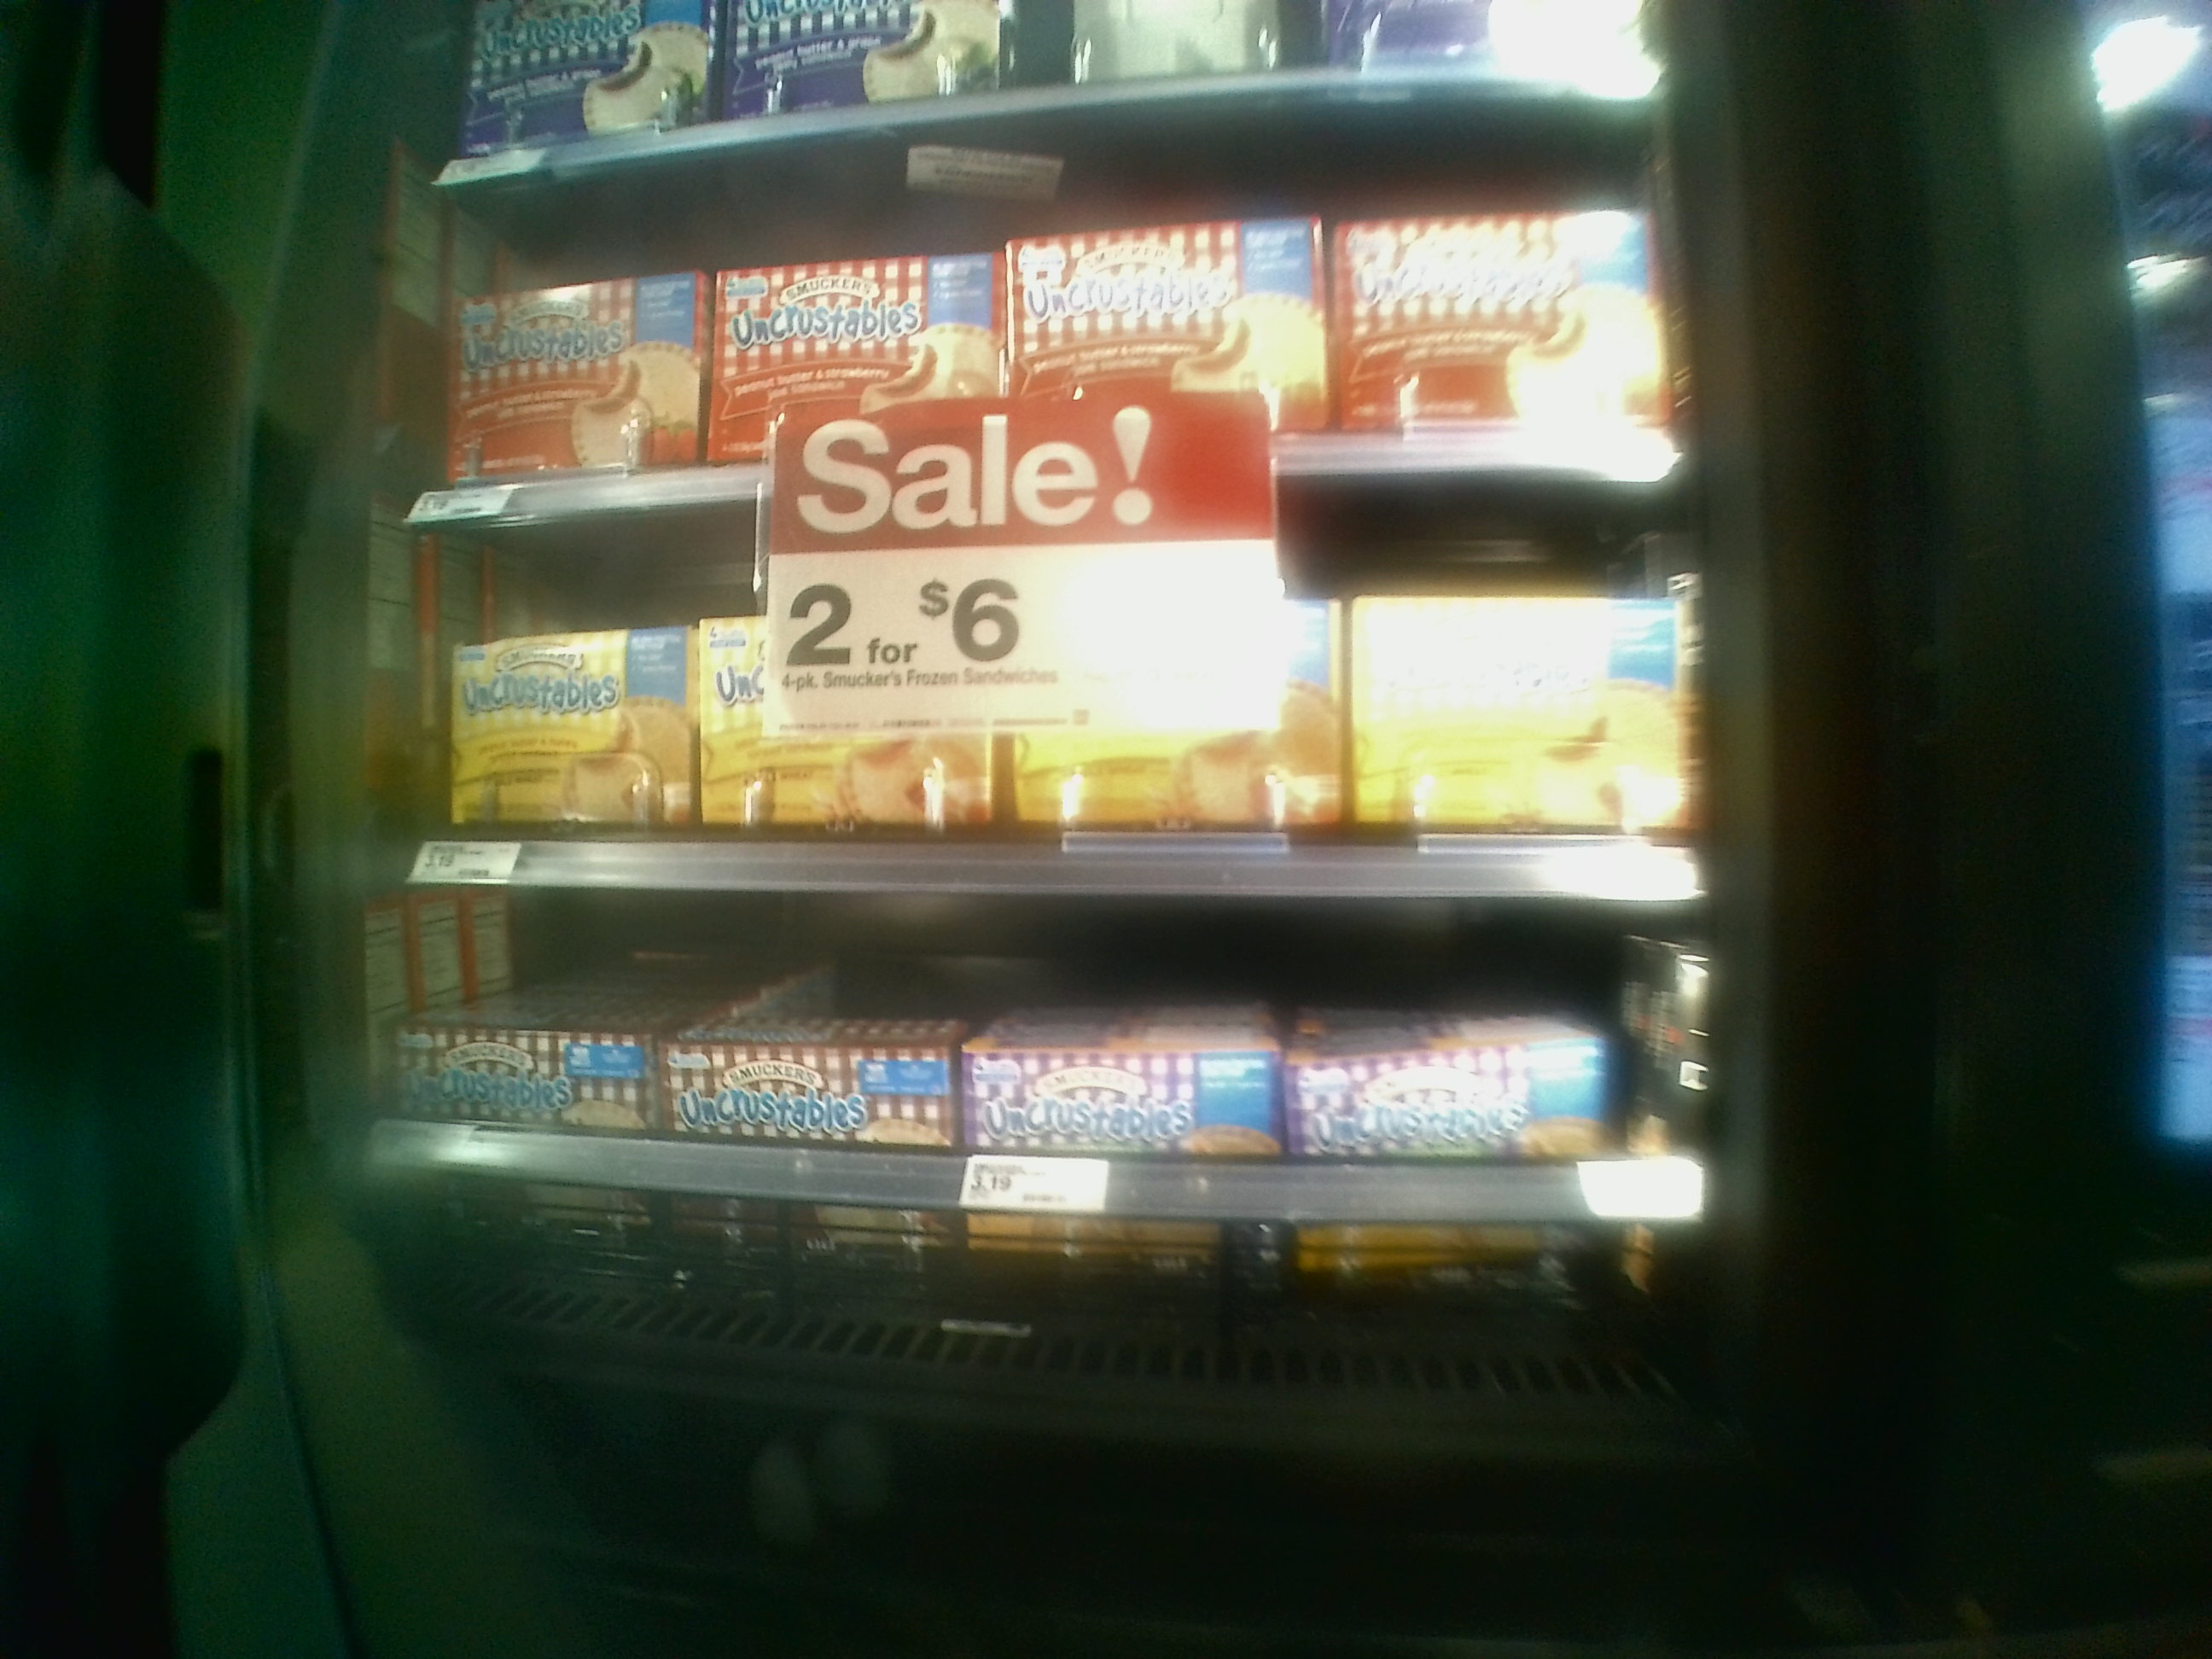shelf: (404, 843, 1684, 1405), (418, 474, 1672, 901), (430, 166, 1655, 479)
